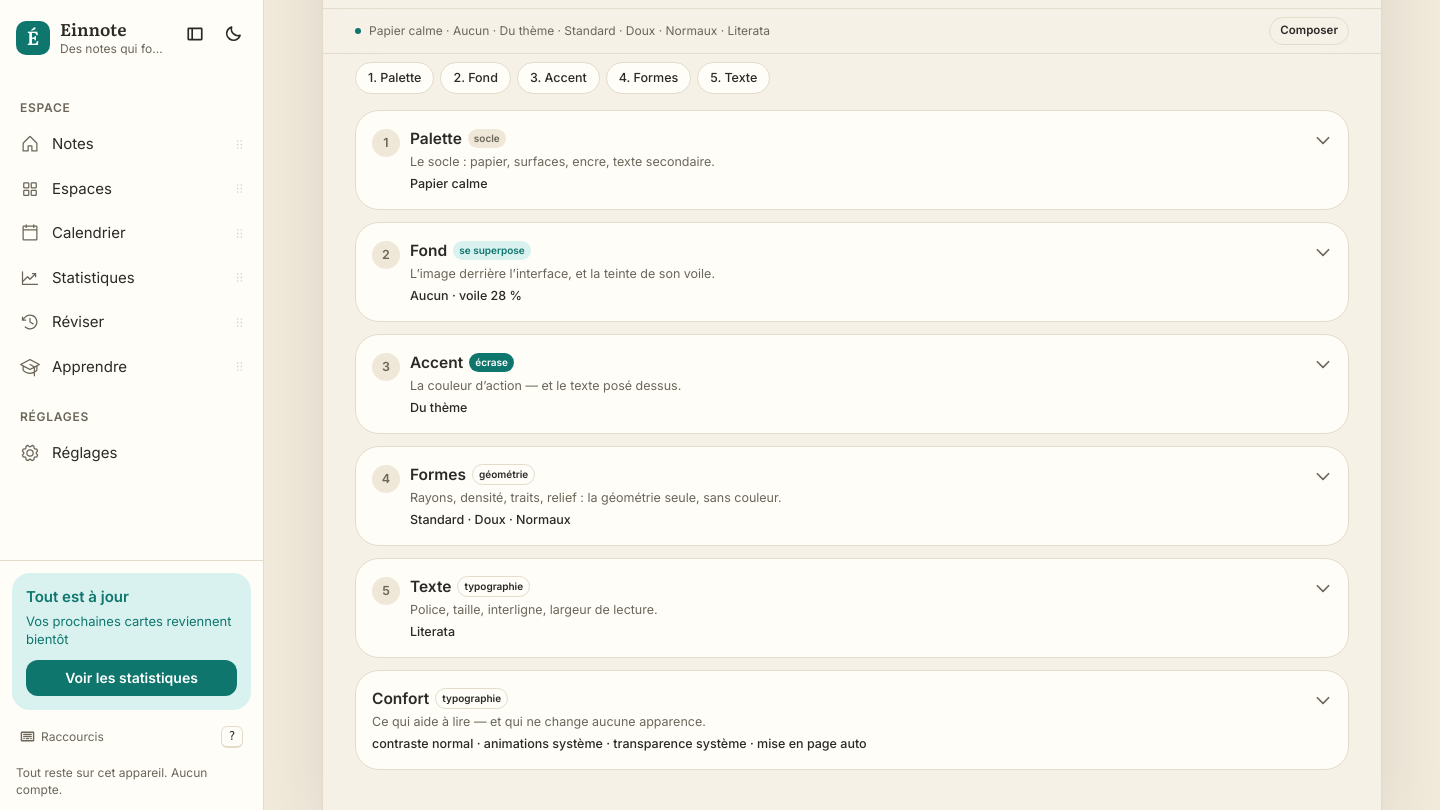
l’écran s’ouvre sur l’aperçu › déplie une couche sans ouvrir les autres
(page scrolled)
Click the button with aria-label "Déplier Formes" at (438, 475), box [372,451,1332,541]
(page scrolled)
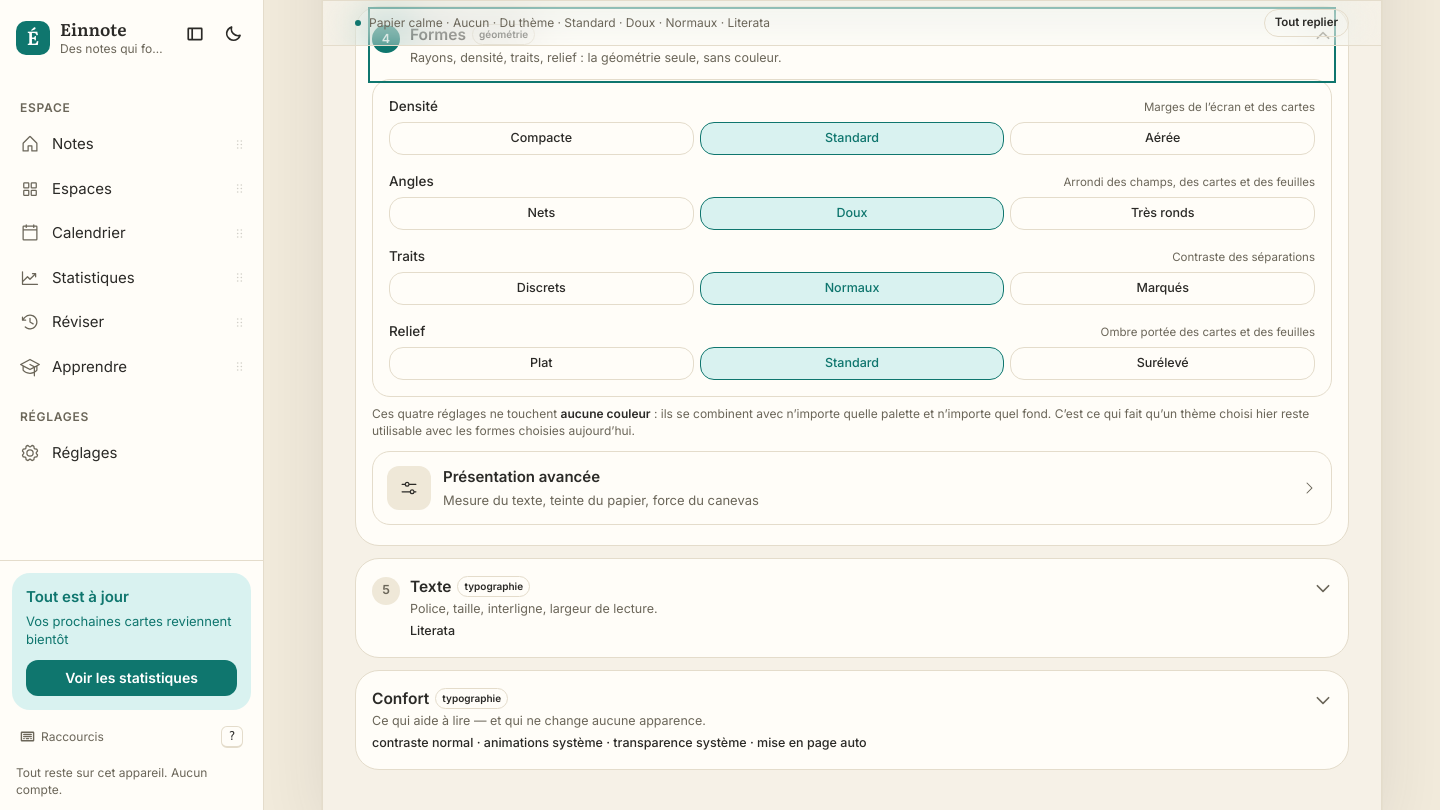
Expected: the button with aria-label "Replier Formes" is expanded, [372,11,1332,79]
Expected: the text "ne touchent" is shown, [372,406,561,420]
